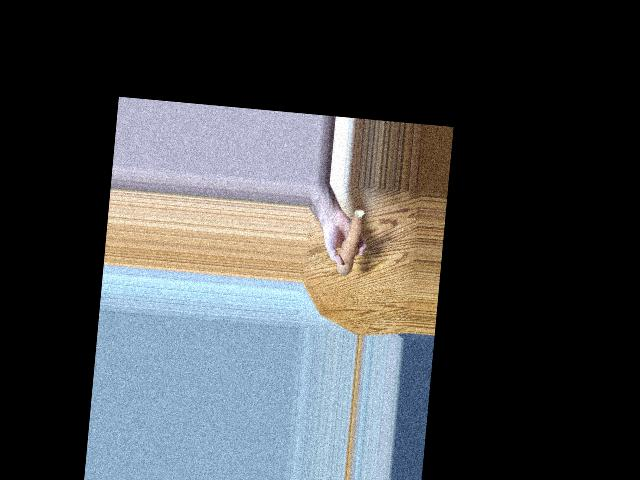sweet_potato: (339, 202, 366, 280)
